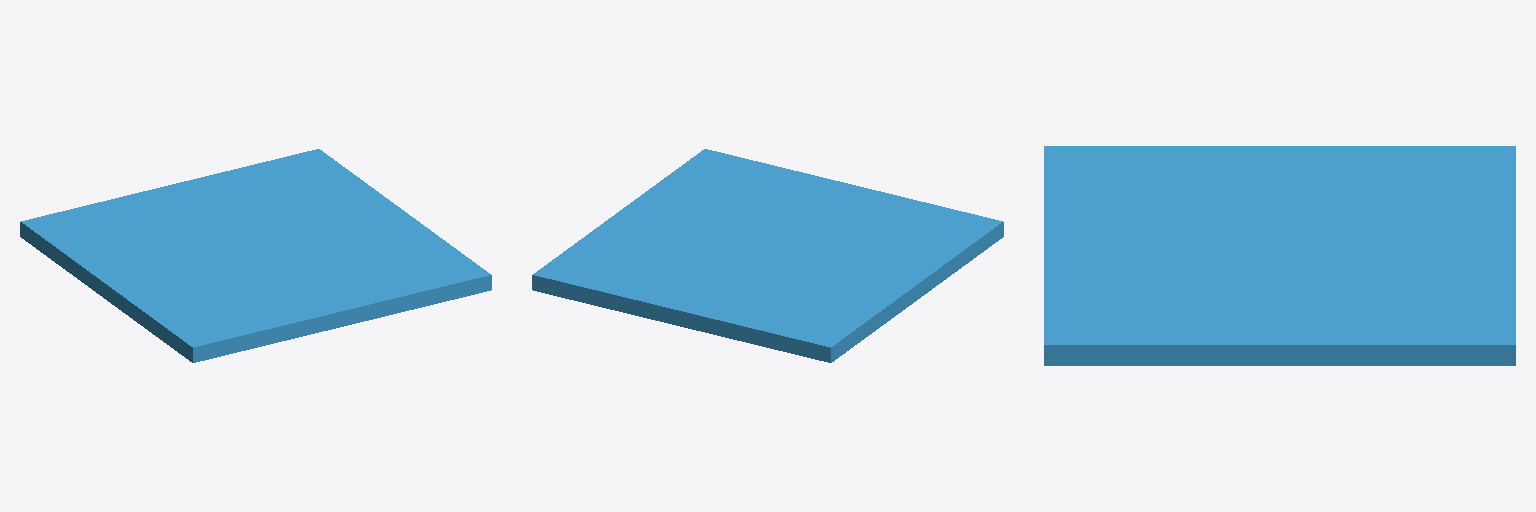
URDF robot description (ground_skeleton):
<?xml version="1.0"?>
<robot name="ground_skeleton">
    <link name="world" />
    <link name="ground_link">
        <inertial>
            <mass value="1.0" />
            <origin xyz="0 0 0" rpy="0 0 0" />
            <inertia ixx="0.01" ixy="0" ixz="0" iyy="0.01" iyz="0" izz="0.01" />
        </inertial>
        <visual>
            <origin xyz="0 0 -0.35" rpy="0 -0 0" />
            <geometry>
                <box size="1.0 1.0 0.05" />
            </geometry>
        </visual>
        <collision group="default">
            <origin xyz="0 0 -0.35" rpy="0 -0 0" />
            <geometry>
                <box size="1.0 1.0 0.05" />
            </geometry>
        </collision>
    </link>
    <joint name="ground_joint" type="fixed">
        <origin xyz="0 0 0" rpy="0 0 0" />
        <parent link="world" />
        <child link="ground_link" />
    </joint>
</robot>

--- What the picture shows (computed from the rendered views, not written in the file) ---
3 views of the same robot in one strip: view 1: azimuth 30°, elevation 25°; view 2: azimuth 150°, elevation 25°; view 3: azimuth 270°, elevation 25° (orthographic).
Model ground_skeleton with 2 links and 1 joints (1 fixed), rooted at world, posed every joint at zero.
Links seen in each view (by area): view 1: ground_link; view 2: ground_link; view 3: ground_link.
Link boxes in pixels (x1,y1,x2,y2): ground_link: (20, 149, 491, 362); ground_link: (532, 149, 1003, 362); ground_link: (1044, 146, 1515, 365).
Bounding box of the posed robot: 1 × 1 × 0.05 m (x, y, z).
Geometry: primitives only (box / cylinder / sphere), no mesh files.